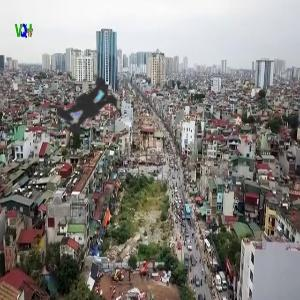drone: (18, 32, 167, 181)
